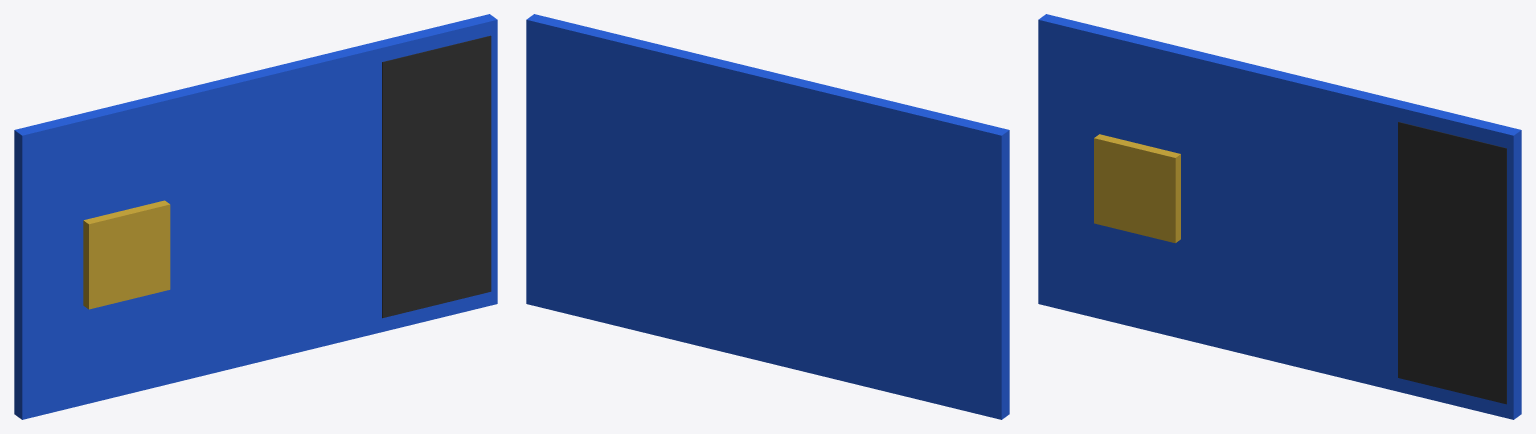
The model's file is credit_card.glb.
The picture shows the model from 3 angles, left to right: view 1: azimuth 30°, elevation 25°; view 2: azimuth 150°, elevation 25°; view 3: azimuth 330°, elevation 25°; orthographic projection.
Size of the model in its own units: 3.5 by 2 by 0.17.
